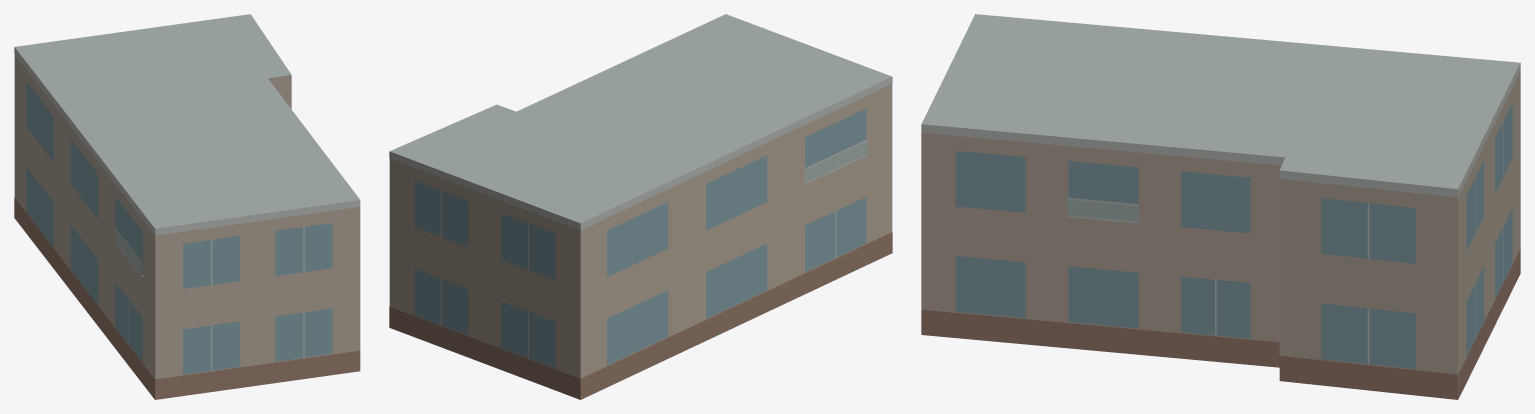
Rendered from survey-upis-32908507.glb.
3 views of the same model, side by side, from view 1: azimuth 30°, elevation 25°; view 2: azimuth 150°, elevation 25°; view 3: azimuth 270°, elevation 25° (orthographic). The views are drawn at different scales.
Visible parts, largest first — view 1: survey-upis-32908507.tmp; view 2: survey-upis-32908507.tmp; view 3: survey-upis-32908507.tmp.
Boxes of the visible parts, x1=… form: survey-upis-32908507.tmp: x1=14, y1=14, x2=360, y2=399; survey-upis-32908507.tmp: x1=389, y1=14, x2=892, y2=399; survey-upis-32908507.tmp: x1=921, y1=14, x2=1520, y2=399.
Bounding box in the file's own units: 10.89 × 6.1 × 15.74.
